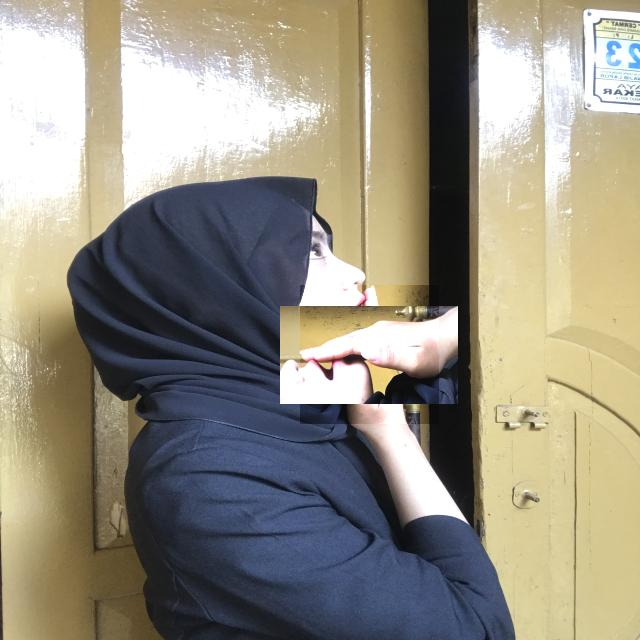ngantuk: (300, 285, 439, 424)
